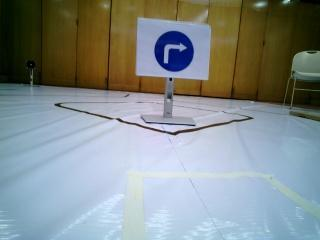right: (138, 20, 209, 78)
